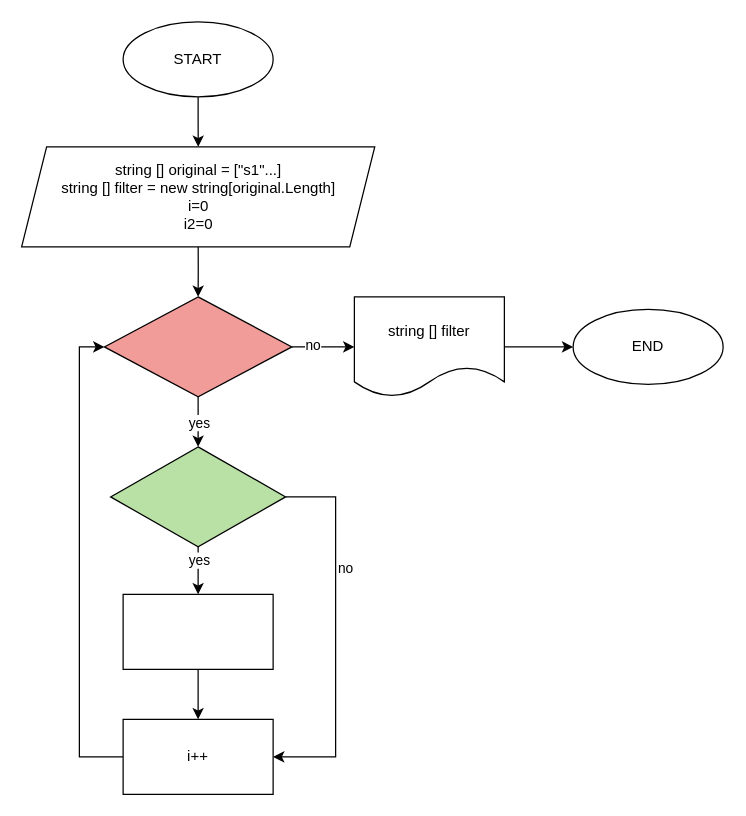
The diagram is 746 pixels wide and 816 high, and some of its shapes have lost their labels. Each missing label, with the centre of its shape:
filter [i2] = original [i] i2++: point 197,631
i < original.length: point 197,346
original [i].Length <= 3: point 197,496
